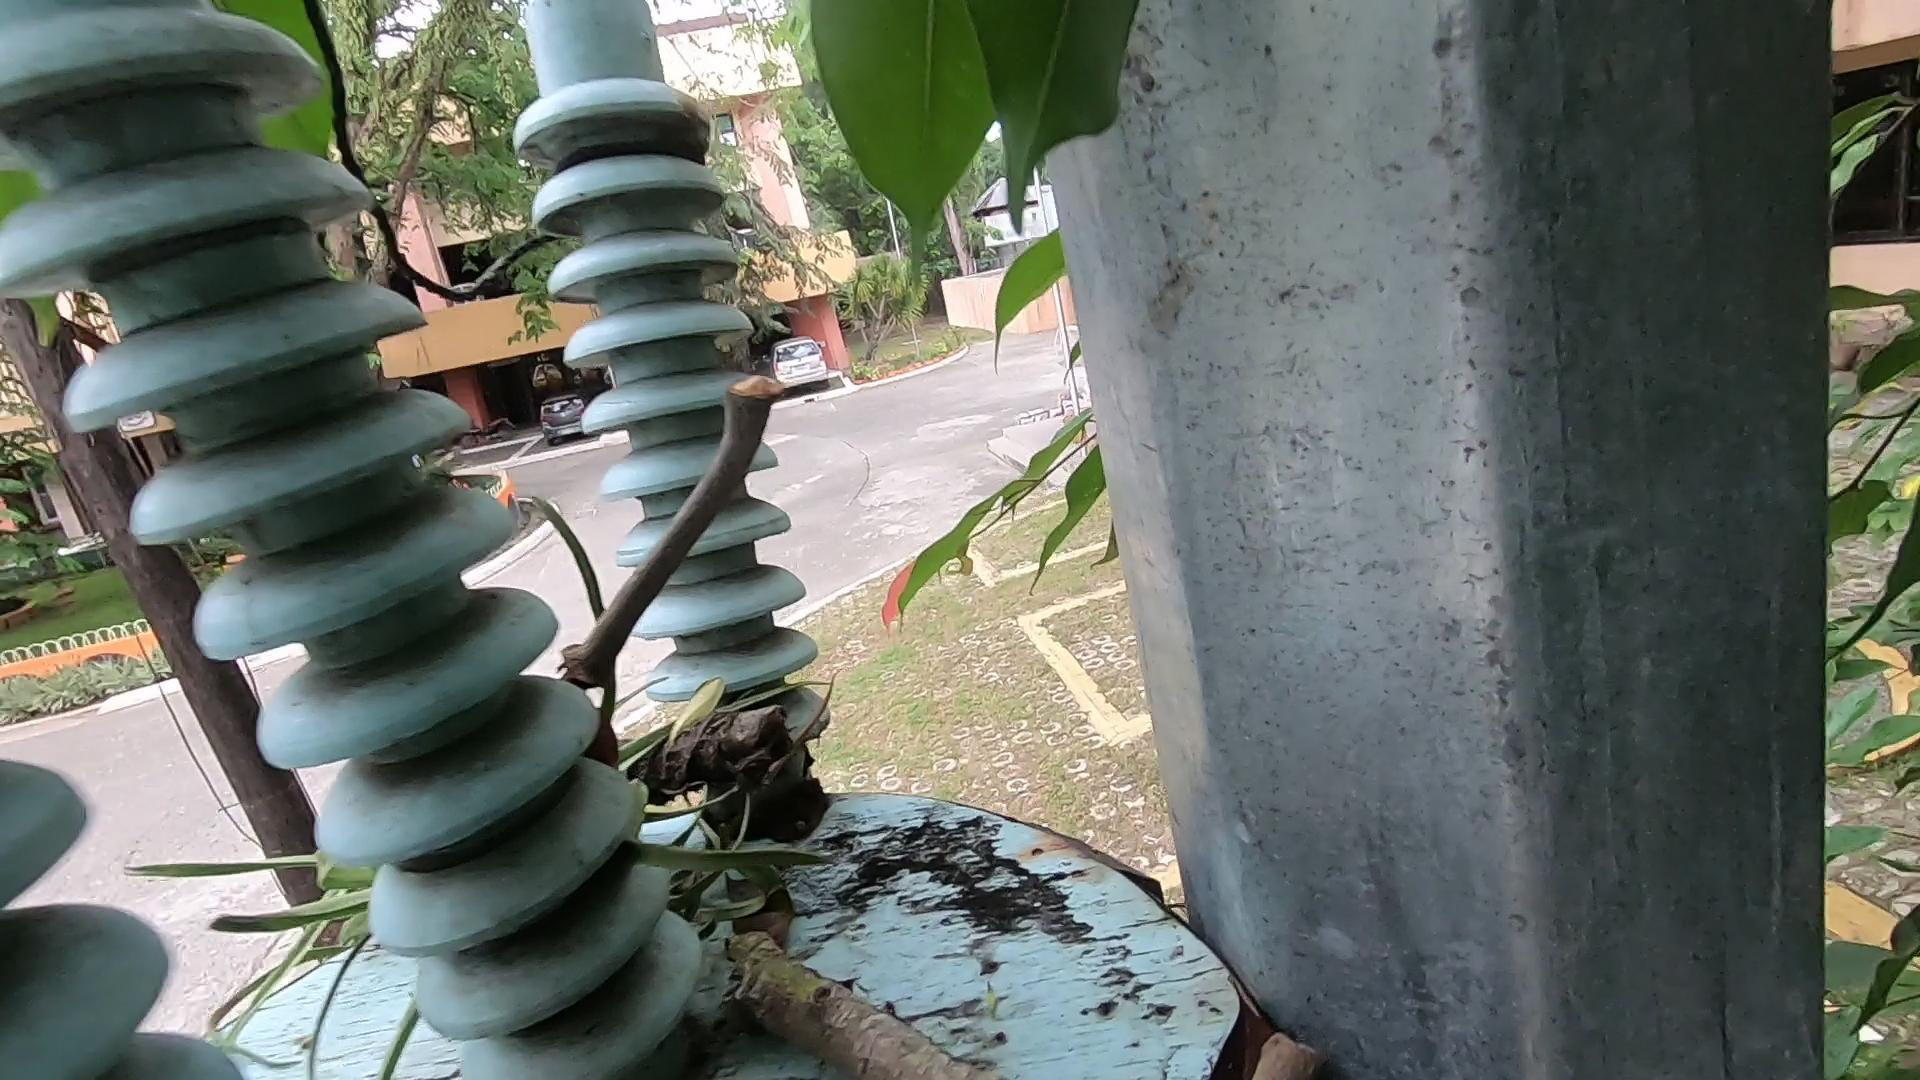branch with leaves: (260, 727, 1023, 1080)
tree branch: (560, 295, 949, 719), (1193, 975, 1352, 1080)
